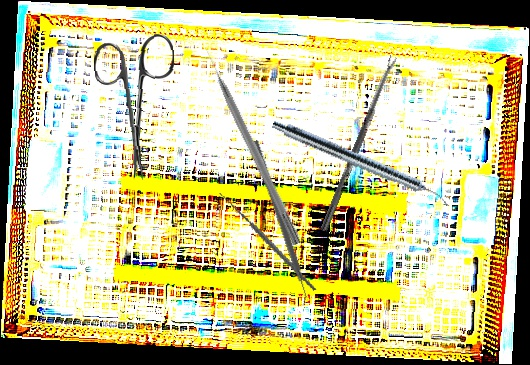Handpiece: (269, 117, 453, 209)
Hook Surgical: (212, 176, 317, 309)
Iris Scissors: (92, 33, 181, 183)
Pusher: (201, 44, 304, 246)
Spatula Surgical: (243, 139, 315, 308)
Surgical Spoon: (320, 55, 398, 233)
